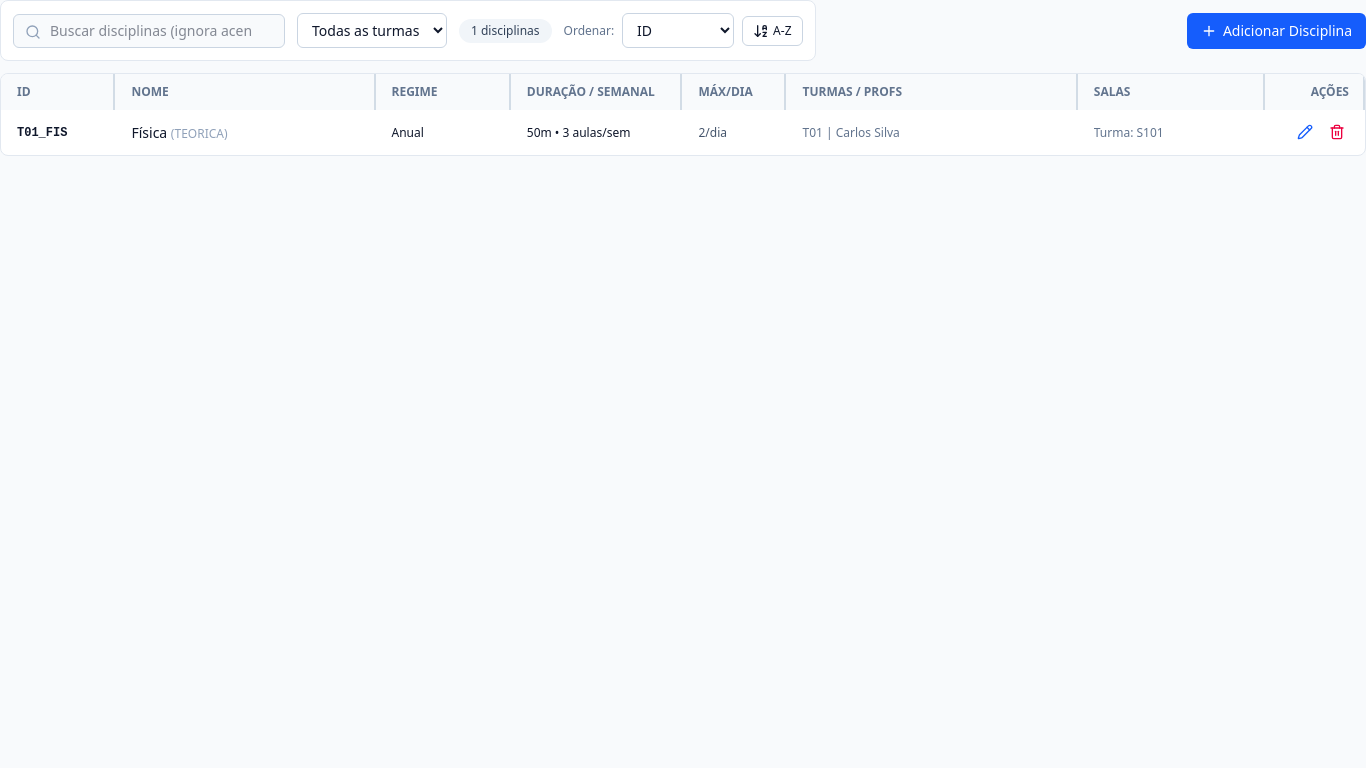
DisciplinasTab › opens Professores & Turmas expanded on create, allows hiding/showing and quick search
Click the button "Adicionar Disciplina" at coordinates (1276, 30), box left=1187, top=12, right=1365, bottom=48
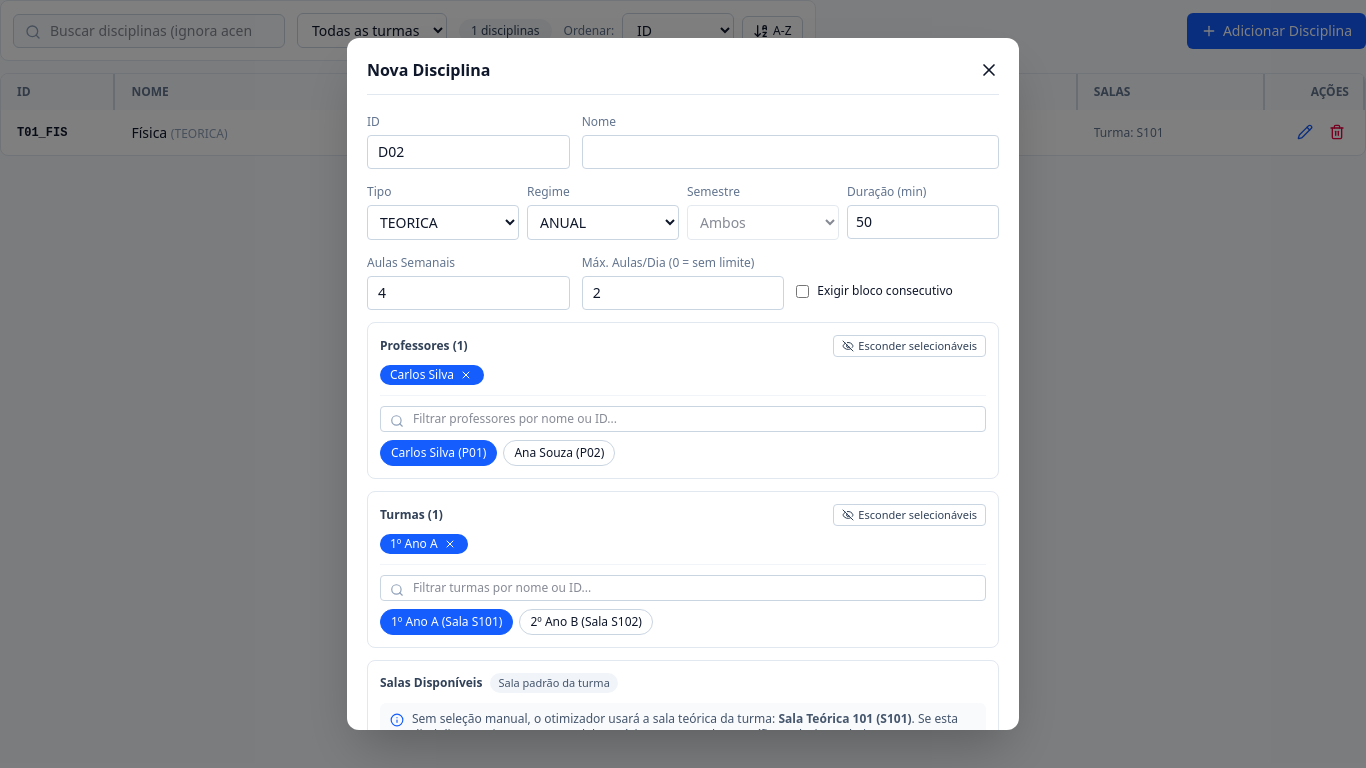
Expected: the heading "Nova Disciplina" is shown, left=367, top=58, right=490, bottom=82
Expected: the button "Esconder selecionáveis" in the row of "Professores" is shown, left=833, top=335, right=986, bottom=357
Expected: the 2nd button "Esconder selecionáveis" is shown, left=833, top=504, right=986, bottom=526
// Quick search filters selectable professors while keeping selected chip visible
Type "Ana" into the field with placeholder "Filtrar professores por nome ou ID..." at coordinates (683, 419), box left=380, top=406, right=986, bottom=432
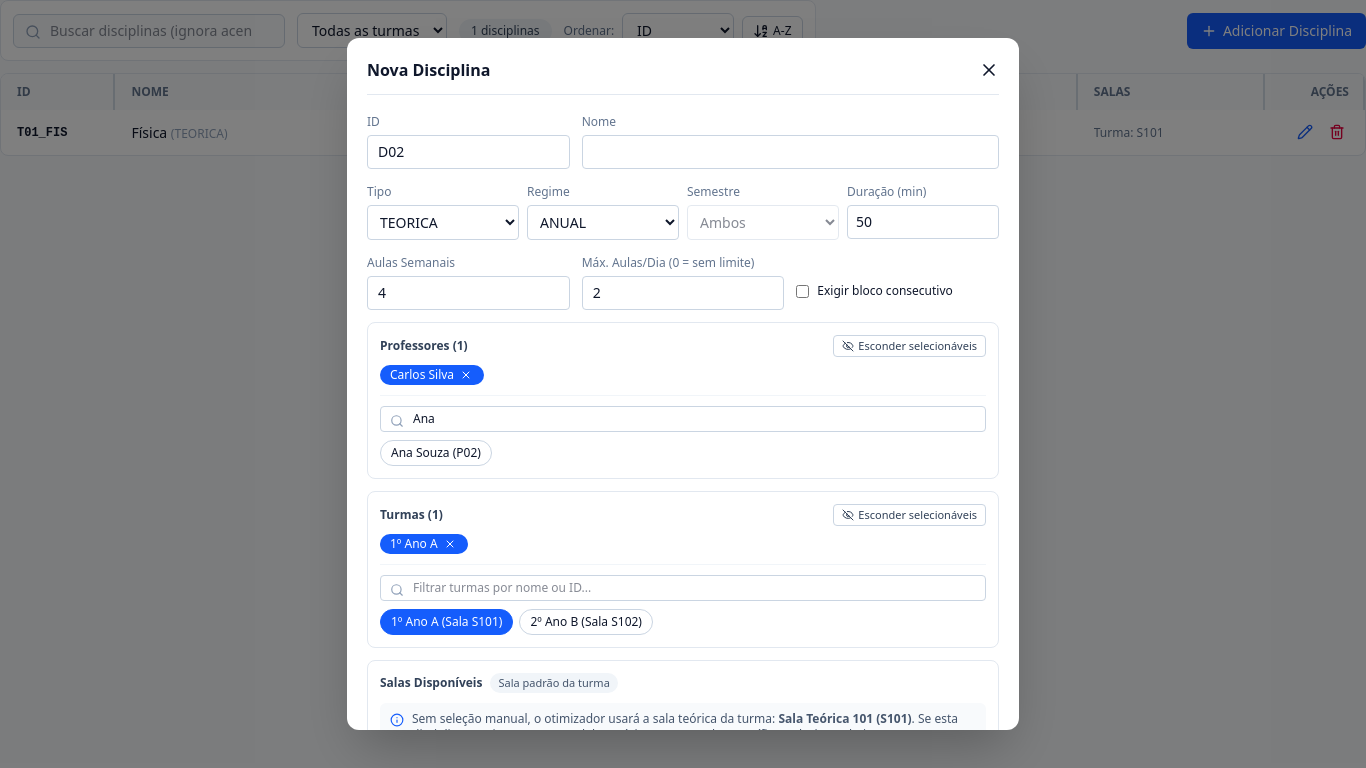
Expected: the button "Ana Souza (P02)" is shown, left=380, top=440, right=492, bottom=466
Expected: the button named "Remover Carlos Silva" is shown, left=458, top=367, right=474, bottom=383
Expected: the button "Carlos Silva (P01)" is gone
Click the button "Esconder selecionáveis" in the row of "Professores" at coordinates (910, 346), box left=833, top=335, right=986, bottom=357
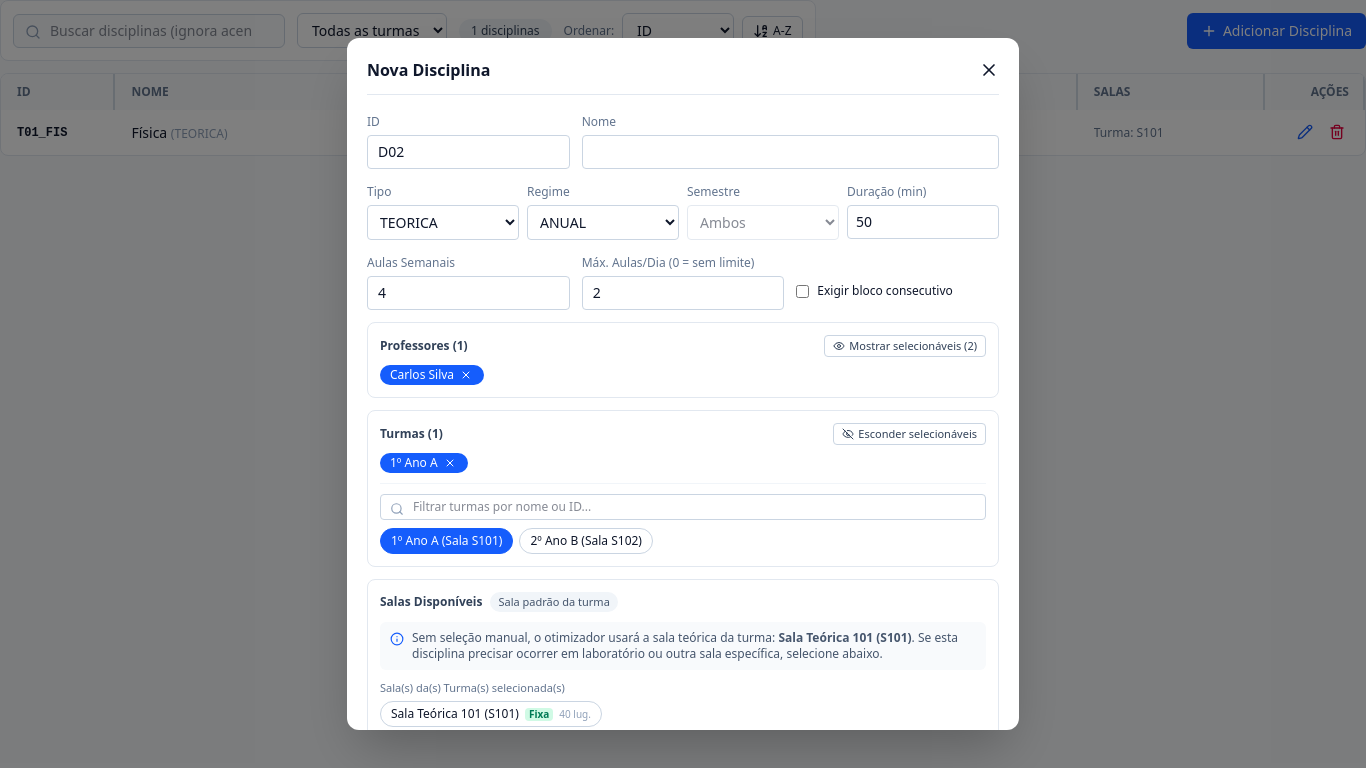
Expected: the field with placeholder "Filtrar professores" is not shown
Expected: the button named "Remover Carlos Silva" is shown, left=458, top=367, right=474, bottom=383
Expected: the button "Mostrar selecionáveis (2)" is shown, left=824, top=335, right=986, bottom=357
